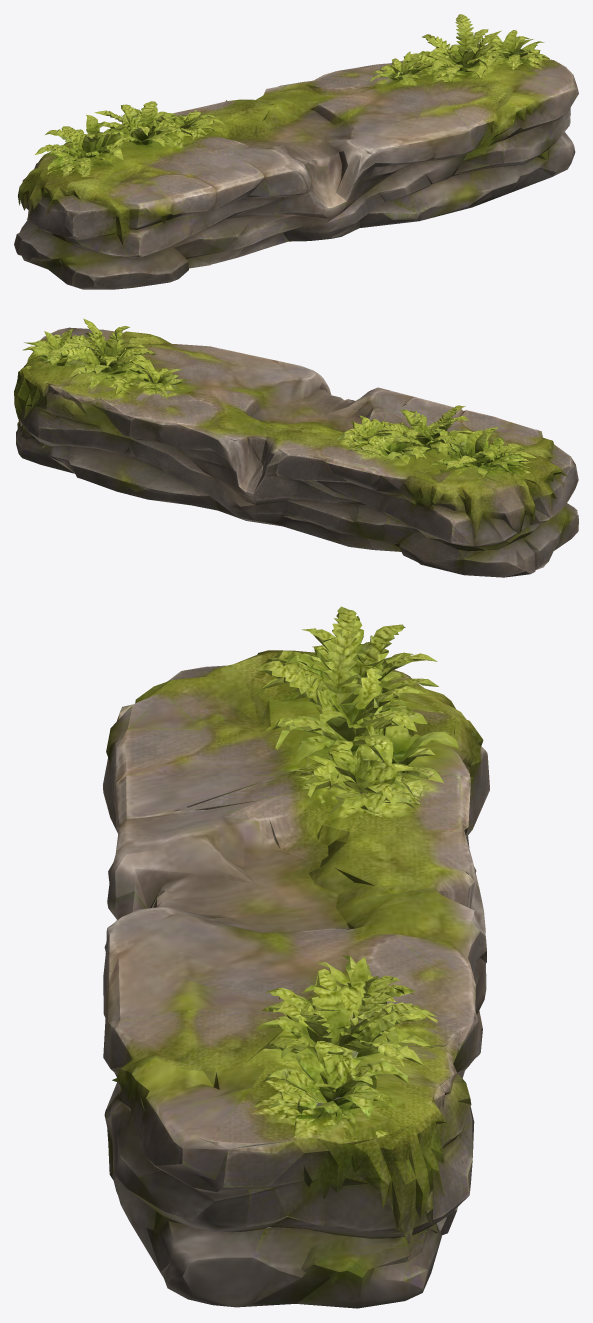
The model's file is PRP-009.glb.
The picture shows the model from 3 angles, top to bottom: view 1: azimuth 30°, elevation 25°; view 2: azimuth 150°, elevation 25°; view 3: azimuth 270°, elevation 25°; orthographic projection. The views are drawn at different scales.
Visible parts, largest first — view 1: PRP-009; view 2: PRP-009; view 3: PRP-009.
Boxes of the visible parts, x1,y1,x2,y2 form: PRP-009: (14,14,578,289); PRP-009: (14,318,578,577); PRP-009: (103,606,489,1308).
Size of the model in its own units: 9.3 by 2.2 by 2.98.
1 material, 1 textured.
